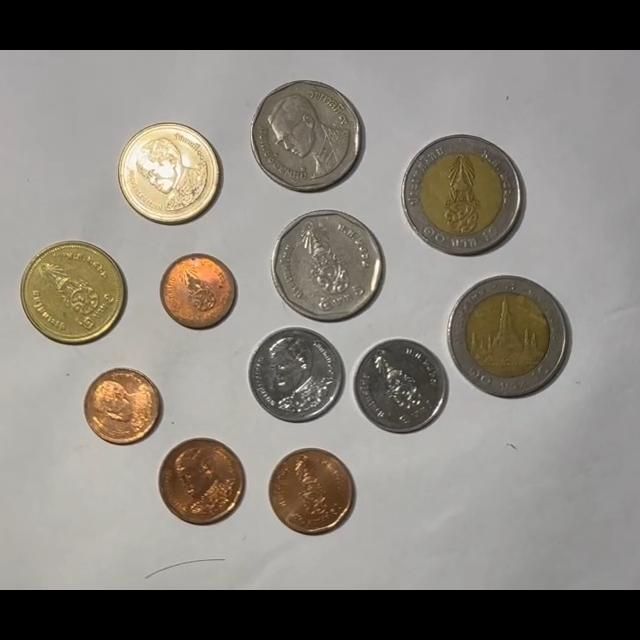1-baht: (248, 328, 343, 423), (353, 339, 448, 434)
10-baht: (446, 275, 569, 398), (401, 135, 524, 256)
2-baht: (20, 241, 125, 345), (118, 123, 222, 226)
25-satang: (84, 368, 162, 445), (159, 253, 236, 328)
5-baht: (250, 79, 364, 193), (271, 210, 385, 323)
50-satang: (158, 438, 246, 525), (268, 448, 355, 535)
